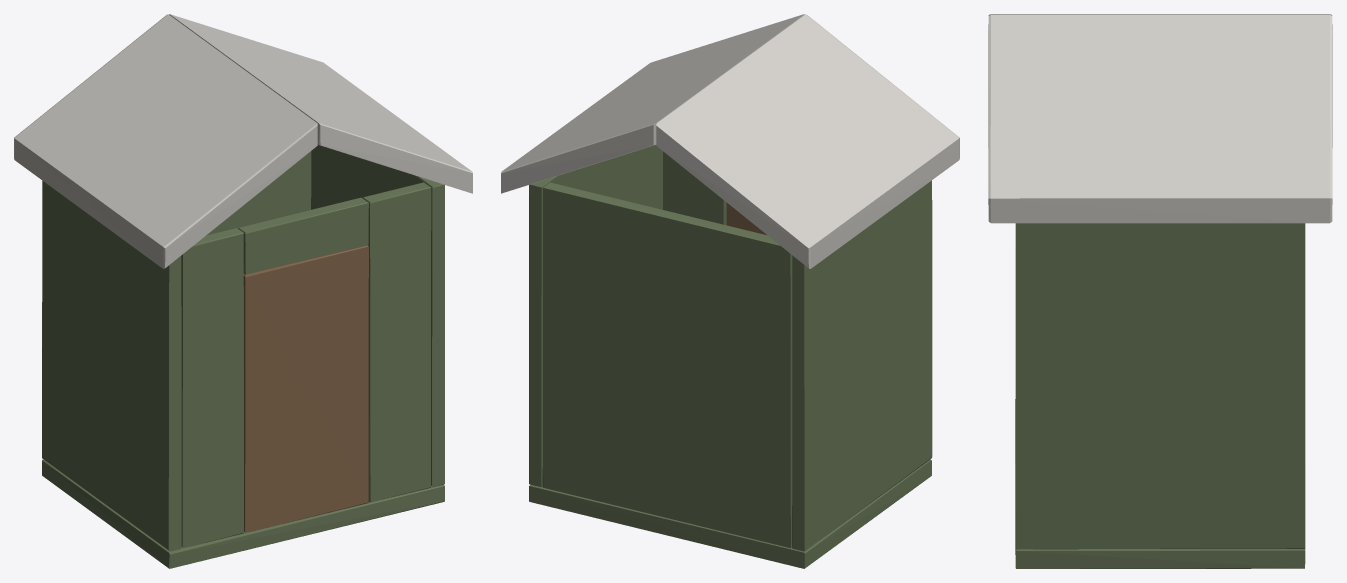
File: SM_Kit_Prop_GardenShed_LOD2.glb
3 views of the same model, side by side, from view 1: azimuth 30°, elevation 25°; view 2: azimuth 150°, elevation 25°; view 3: azimuth 270°, elevation 25° (orthographic). The views are drawn at different scales.
Parts seen in each view (by area): view 1: SM_Kit_Prop_GardenShed_LOD2; view 2: SM_Kit_Prop_GardenShed_LOD2; view 3: SM_Kit_Prop_GardenShed_LOD2.
Part boxes in pixels (box(x1,y1,x2,y2)): SM_Kit_Prop_GardenShed_LOD2: box(14, 14, 472, 568); SM_Kit_Prop_GardenShed_LOD2: box(501, 14, 959, 568); SM_Kit_Prop_GardenShed_LOD2: box(988, 14, 1332, 568).
Bounding box in the file's own units: 2.23 × 2.9 × 1.89.
